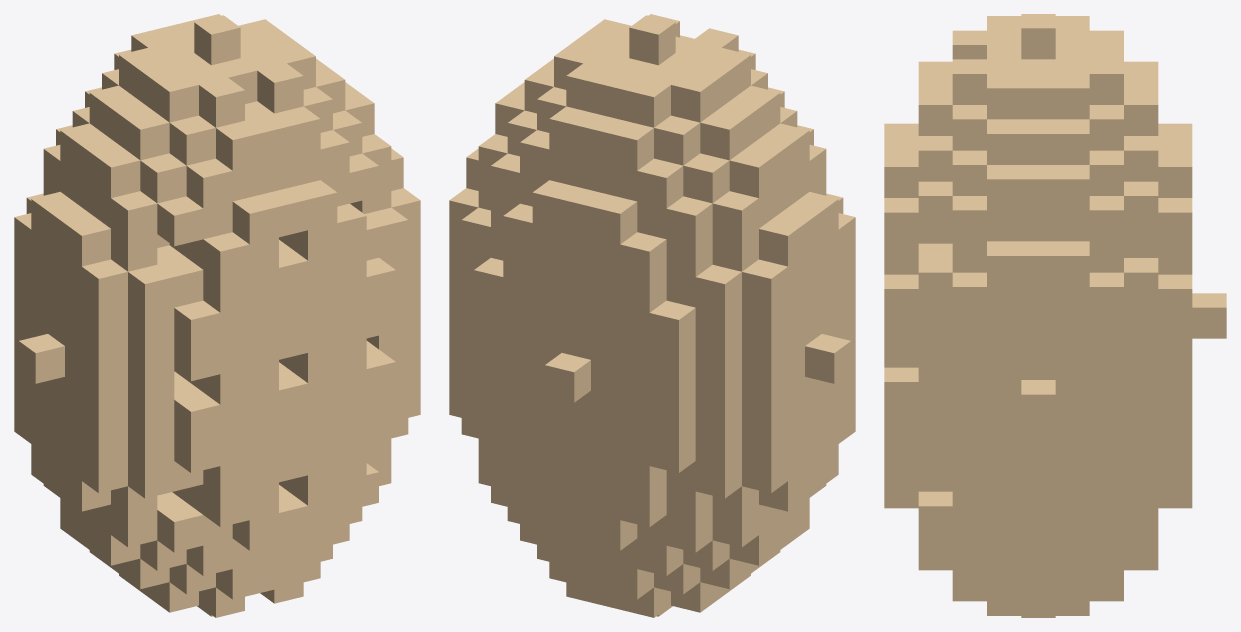
Rendered from alien-biosphere-hive-tower-4ff2a2e9__22776.glb.
3 views of the same model, side by side, from view 1: azimuth 30°, elevation 25°; view 2: azimuth 150°, elevation 25°; view 3: azimuth 270°, elevation 25° (orthographic).
Parts seen in each view (by area): view 1: hive-tower; view 2: hive-tower; view 3: hive-tower.
Part boxes in pixels (x1,y1,x2,y2): hive-tower: (14, 14, 420, 617); hive-tower: (449, 14, 855, 617); hive-tower: (884, 14, 1226, 617).
Size of the model in its own units: 2.21 by 3.23 by 1.7.
